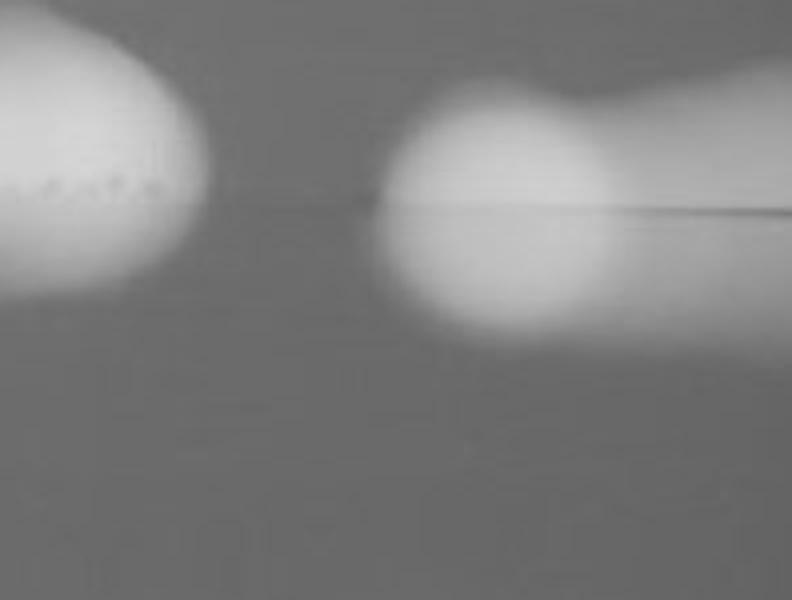defect: (36, 173, 62, 194), (140, 174, 164, 195), (102, 171, 126, 191)
